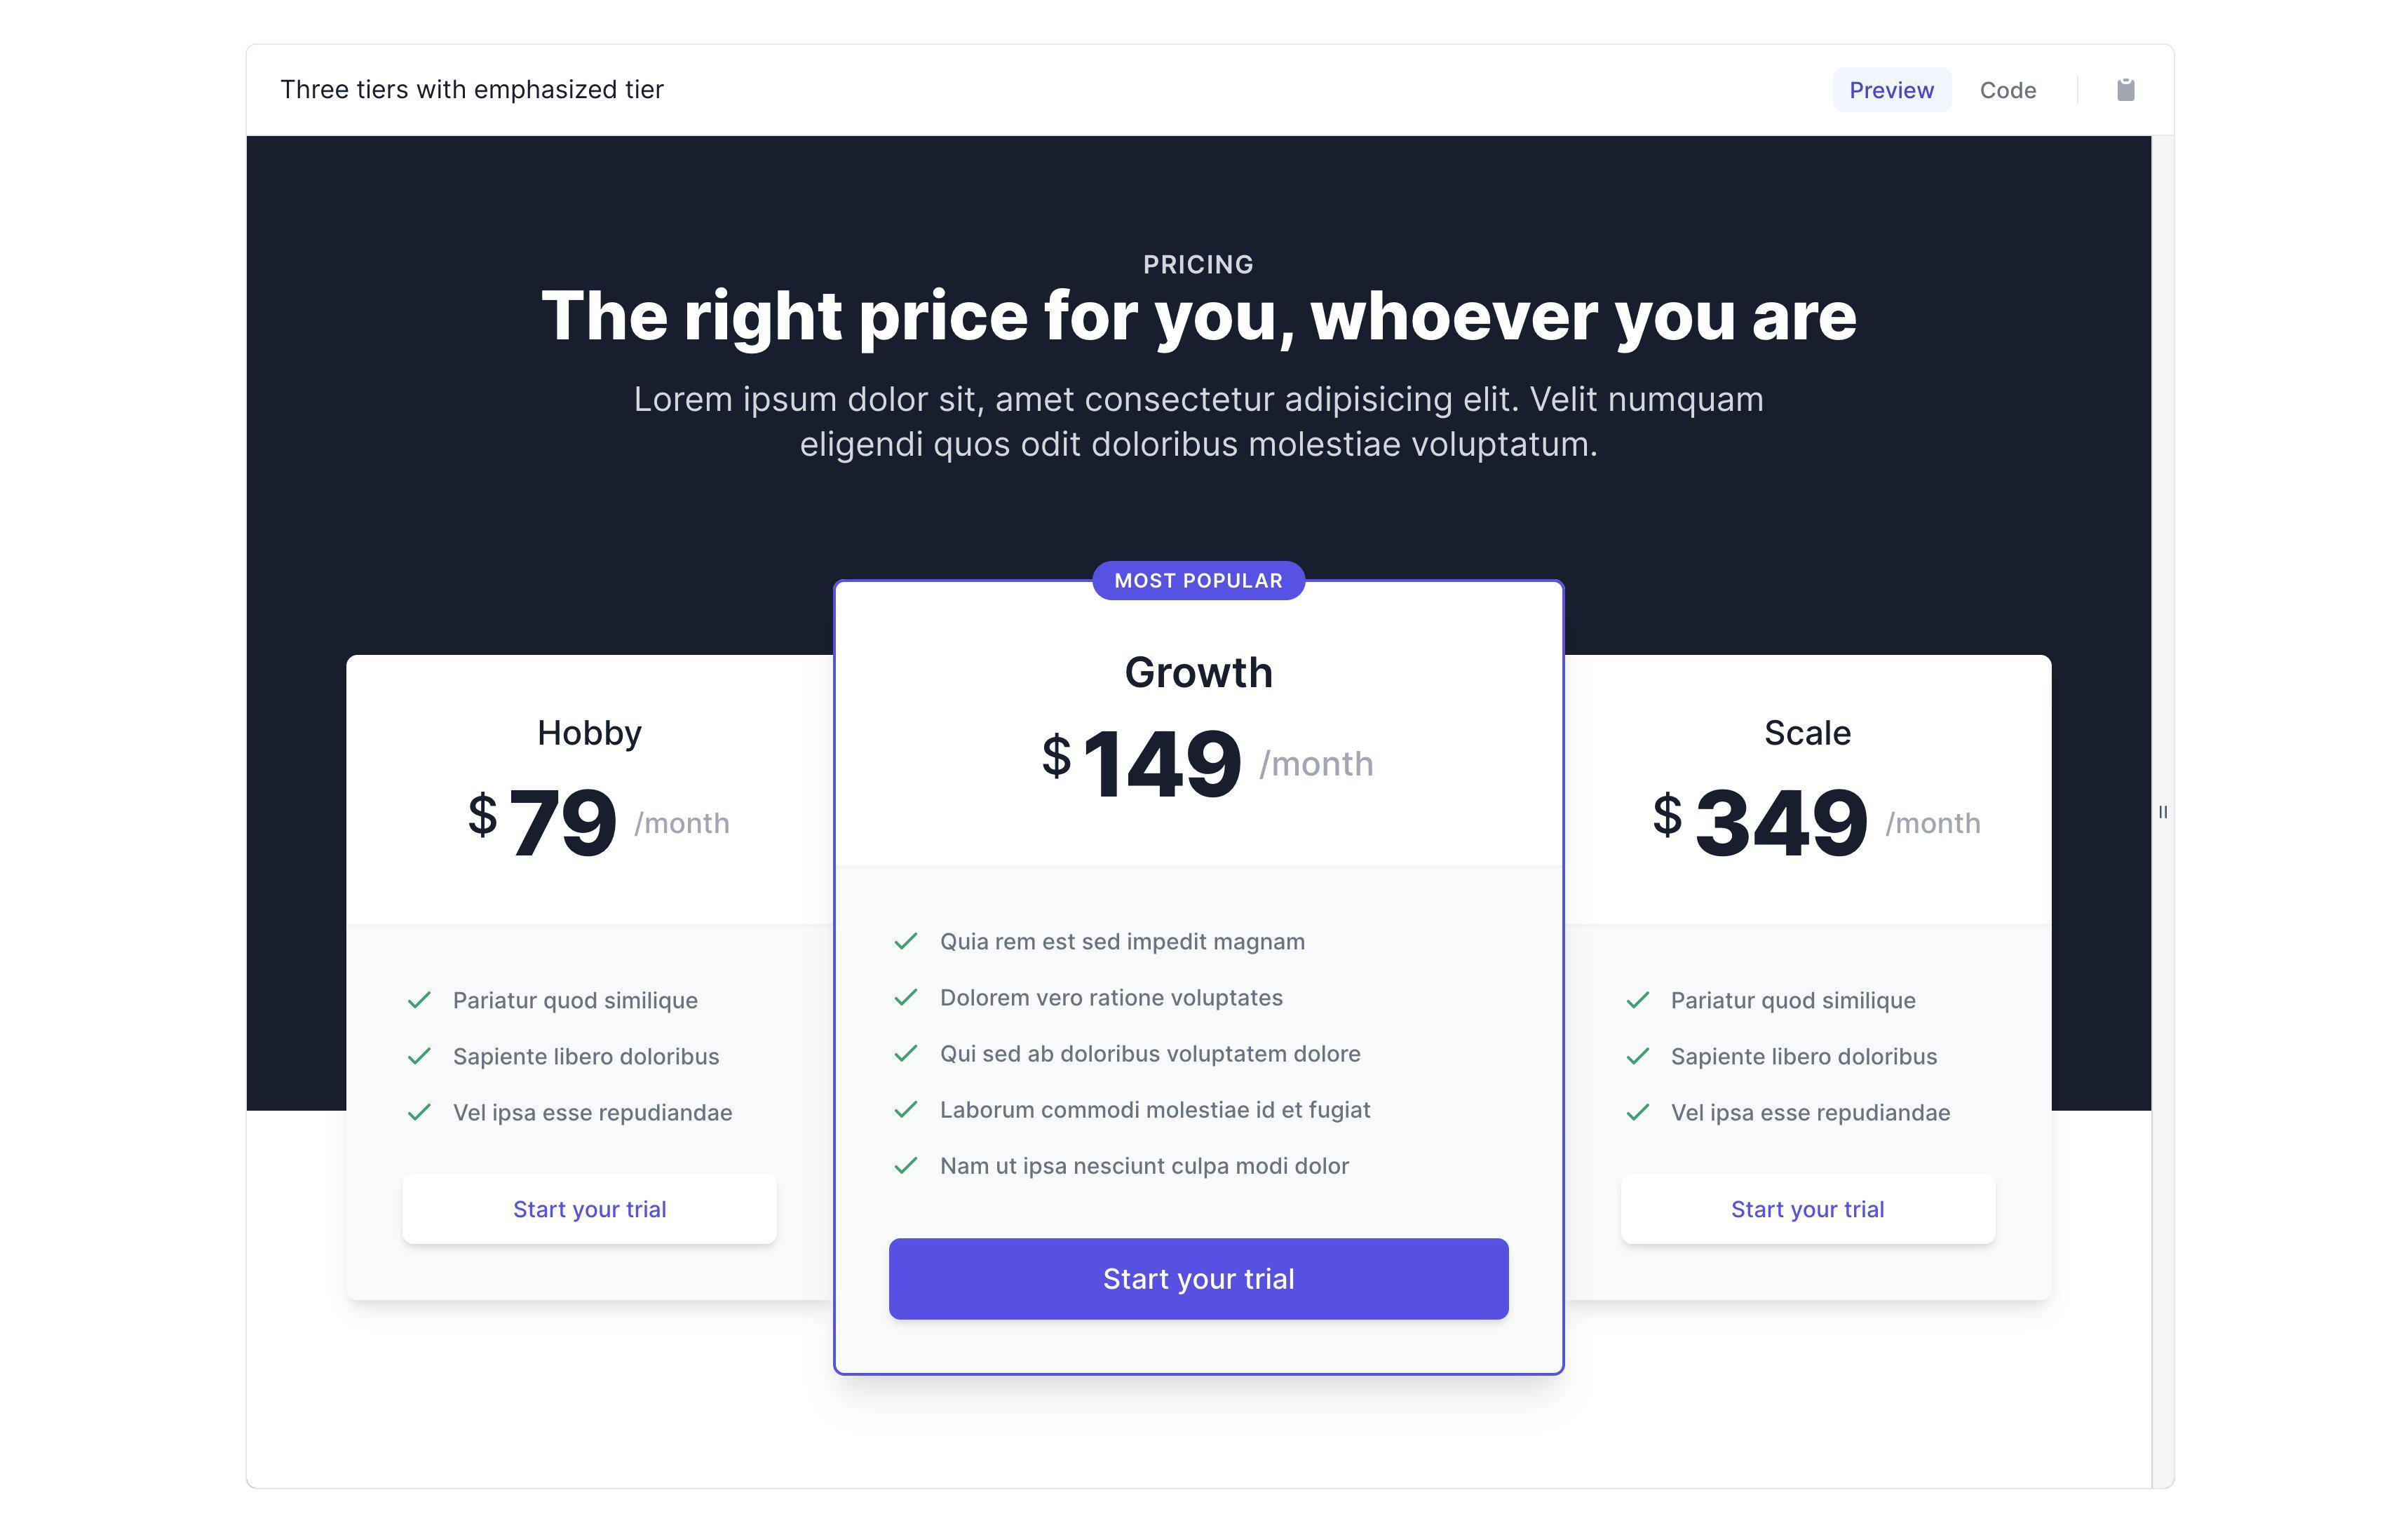button: (890, 1240, 1511, 1321), (1620, 1176, 1997, 1249), (402, 1174, 779, 1244), (1836, 70, 1948, 111)
icon: (2113, 74, 2145, 111)
